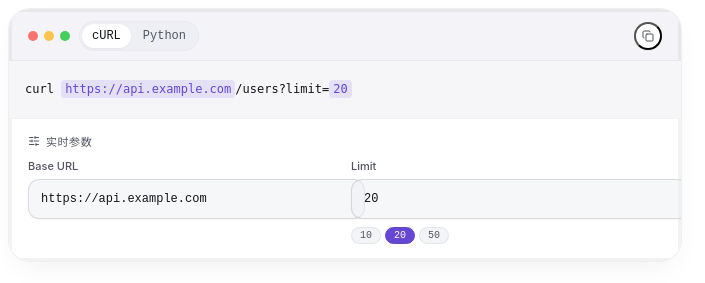
Test: CodeSnippetDeck › 编辑参数后代码立即更新，且支持一键重置恢复默认值
The width and height of the screenshot is (705, 283).
Clear the field labelled "Limit" at (520,199), box [351, 179, 688, 219]
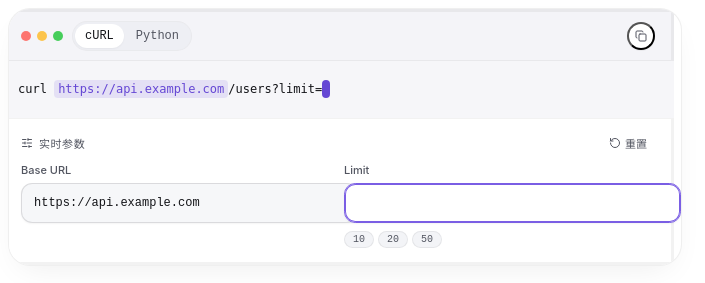
Type "5" into the field labelled "Limit" at (512,203), box [344, 183, 681, 223]
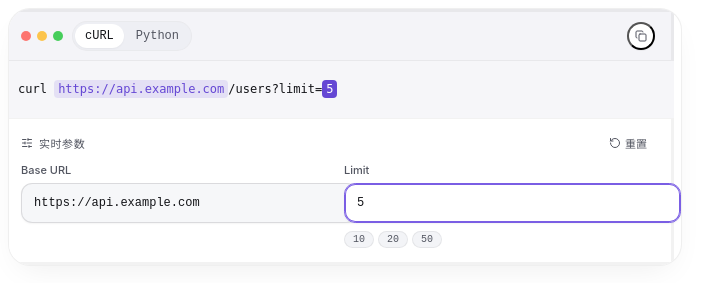
Expected: the element with test id "snippet-code" reads "curl https://api.example.com/users?limit=5", [18, 80, 338, 98]
Click the button with aria-label "重置参数" at (628,143), box [601, 133, 655, 153]
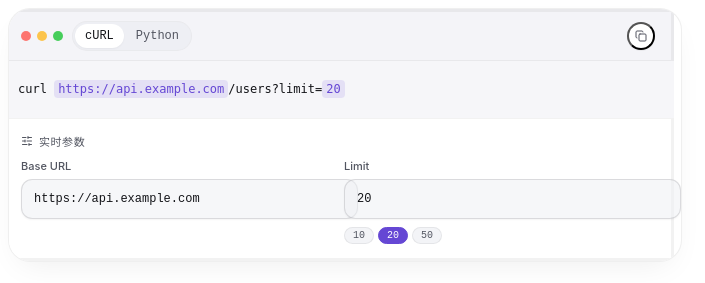
Expected: the element with test id "snippet-code" reads "curl https://api.example.com/users?limit=20", [18, 80, 345, 98]
